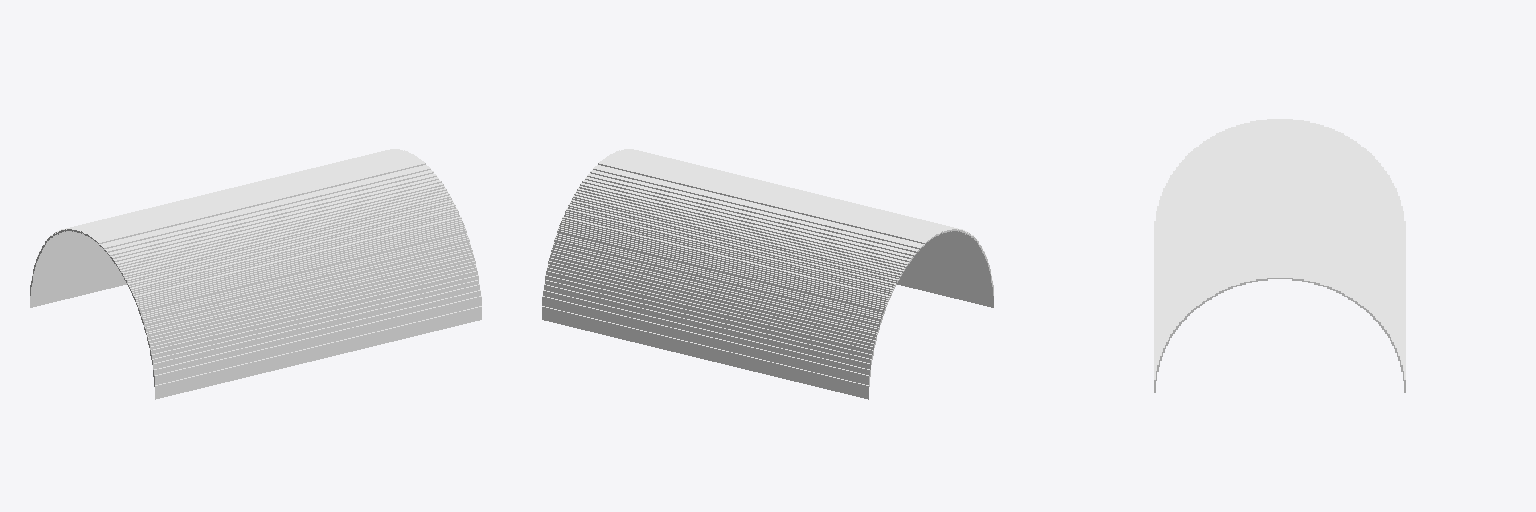
File: Skywalk-2.obj
3 renders of one model, left to right at view 1: azimuth 30°, elevation 25°; view 2: azimuth 150°, elevation 25°; view 3: azimuth 270°, elevation 25°, orthographic.
Visible parts, largest first — view 1: object 1; view 2: object 1; view 3: object 1.
Part boxes in pixels (left/top/right/bottom): object 1: left=30, top=149, right=481, bottom=399; object 1: left=542, top=149, right=993, bottom=399; object 1: left=1154, top=119, right=1405, bottom=392.
Size of the model in its own units: 25.5 by 8.6 by 17.